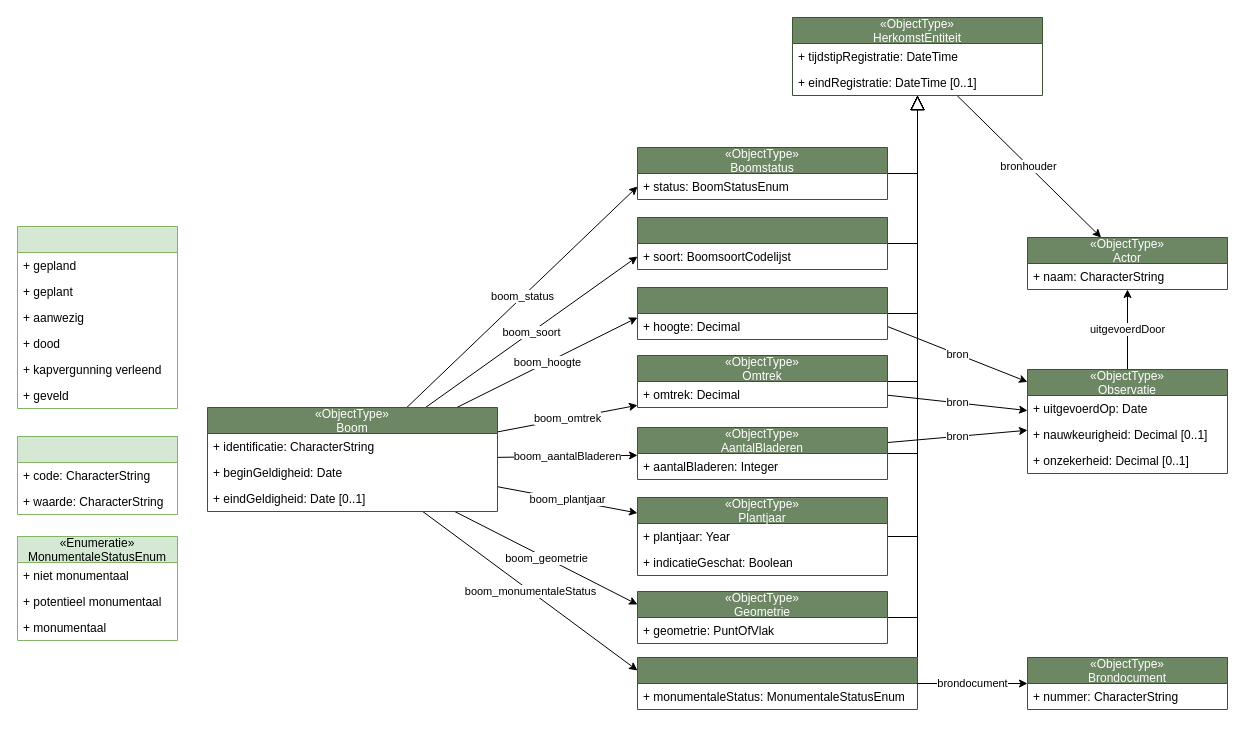
The diagram is 1245 pixels wide and 730 high, and some of its shapes have lost their labels. The shapes that lost their labels are listed below. From the top down, each one's box as (x1, y1, x2, y2) in pixels, then its label:
(636, 216, 888, 270): «ObjectType» Boomsoort
(16, 226, 178, 408): «Enumeratie» BoomstatusEnum
(636, 286, 888, 340): «ObjectType» Hoogte
(16, 436, 178, 514): «Codelijst» BoomsoortCodelijst
(636, 656, 918, 710): «ObjectType» MonumentaleStatus
